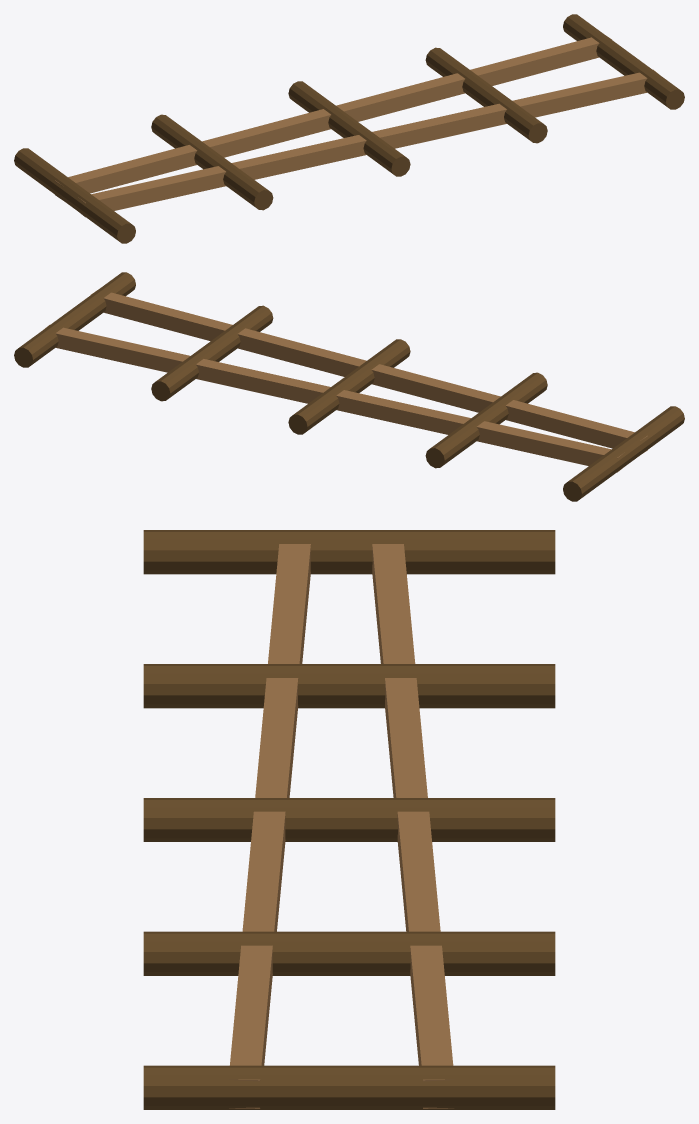
Rendered from fence_broken_r0_01.glb.
3 renders of one model, top to bottom at view 1: azimuth 30°, elevation 25°; view 2: azimuth 150°, elevation 25°; view 3: azimuth 270°, elevation 25°, orthographic. The views are drawn at different scales.
Visible parts, largest first — view 1: rail1, rail0, post0, post3, post1, post4, post2; view 2: rail0, rail1, post0, post1, post3, post4, post2; view 3: post4, rail0, rail1, post3, post0, post1, post2.
Boxes of the visible parts, box(x1,y1,x2,y2) form: rail1: box(78, 69, 656, 217); rail0: box(55, 36, 611, 199); post0: box(14, 148, 135, 243); post3: box(425, 47, 547, 143); post1: box(151, 114, 273, 210); post4: box(563, 14, 684, 109); post2: box(288, 81, 410, 176); rail0: box(45, 325, 624, 472); rail1: box(91, 291, 647, 454); post0: box(563, 406, 684, 501); post1: box(425, 372, 547, 468); post3: box(151, 305, 273, 401); post4: box(14, 272, 135, 367); post2: box(288, 339, 410, 434); post4: box(143, 1065, 555, 1109); rail0: box(372, 544, 454, 1108); rail1: box(228, 544, 310, 1108); post3: box(143, 931, 555, 975); post0: box(143, 530, 555, 574); post1: box(143, 664, 555, 708); post2: box(143, 798, 555, 841).
Size of the model in its own units: 4.14 by 0.14 by 1.3.
